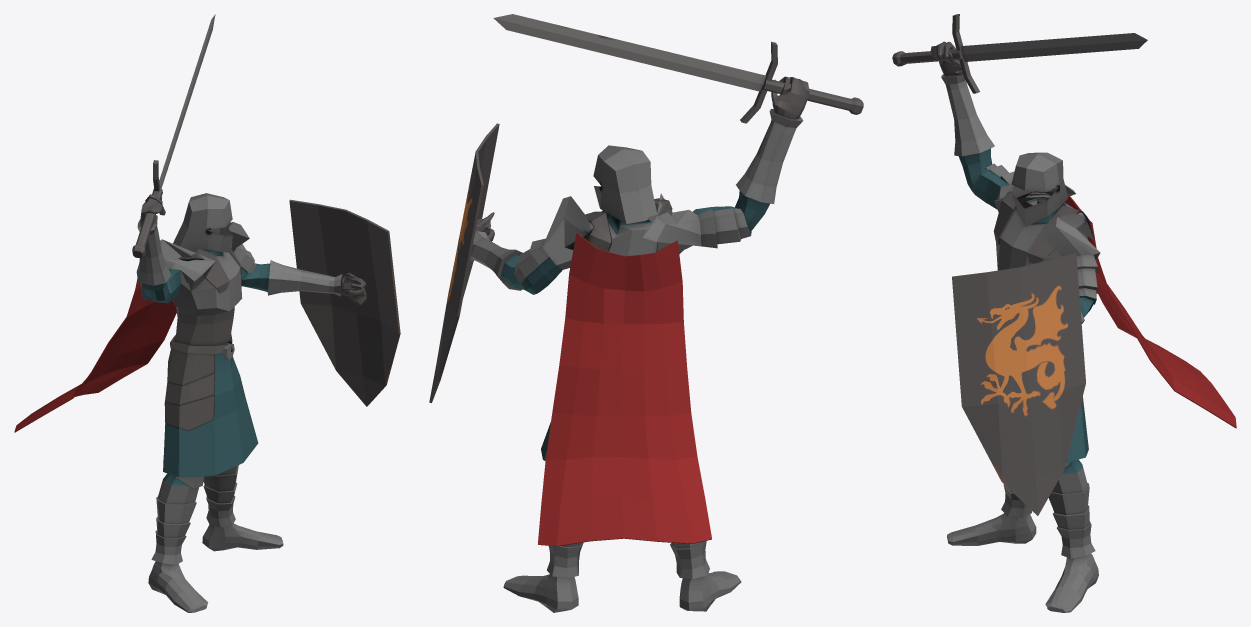
The model's file is Knight_Showcase.fbx.
3 views of the same model, side by side, from view 1: azimuth 30°, elevation 25°; view 2: azimuth 150°, elevation 25°; view 3: azimuth 270°, elevation 25° (orthographic). The views are drawn at different scales.
Parts seen in each view (by area): view 1: Armor.001; view 2: Armor.001; view 3: Armor.001.
Part boxes in pixels (x1=…): Armor.001: x1=14, y1=14, x2=400, y2=612; Armor.001: x1=429, y1=14, x2=863, y2=612; Armor.001: x1=892, y1=14, x2=1236, y2=612.
Bounding box in the file's own units: 72.81 × 118 × 65.46.
